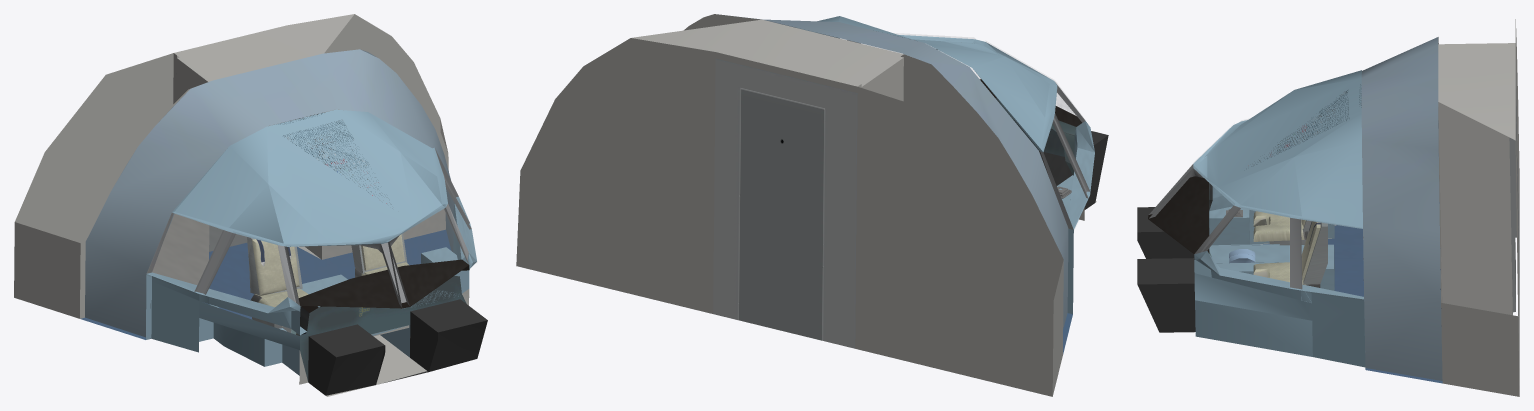
Rendered from interior.gltf.
The picture shows the model from 3 angles, left to right: view 1: azimuth 30°, elevation 25°; view 2: azimuth 150°, elevation 25°; view 3: azimuth 270°, elevation 25°; orthographic projection. The views are drawn at different scales.
Parts seen in each view (by area): view 1: Interior; view 2: Interior; view 3: Interior.
Boxes of the visible parts, x1,y1,x2,y2 form: Interior: (14,14,487,396); Interior: (516,14,1108,396); Interior: (1137,19,1519,396).
Size of the model in its own units: 4.33 by 2.06 by 3.21.
Materials: 9 (6 with a texture image).
